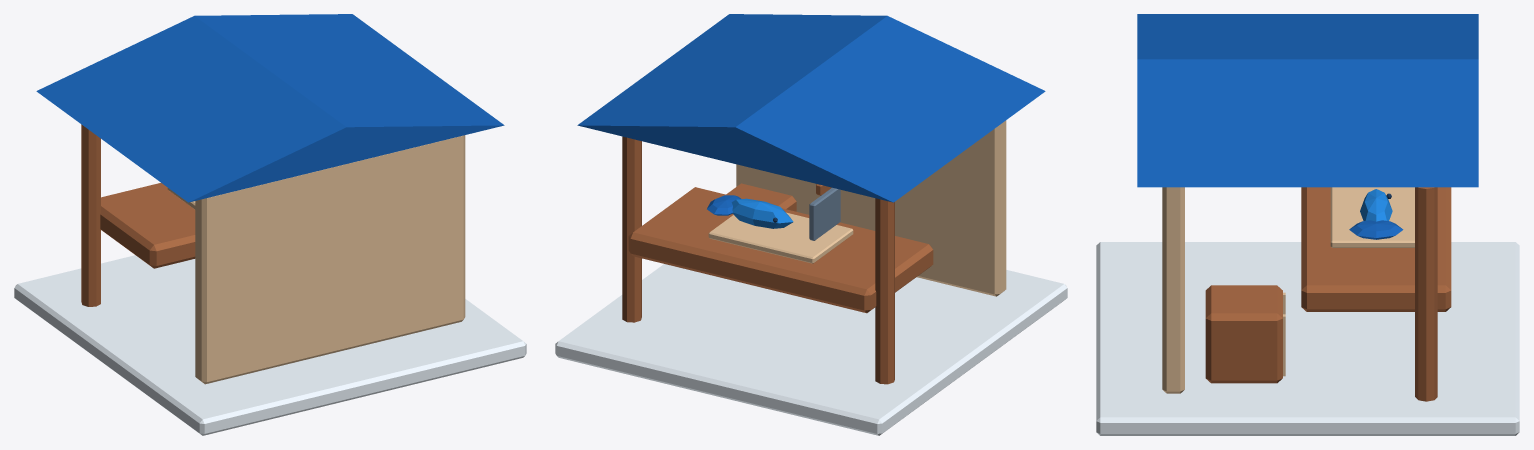
The model's file is Building_Preparation_2x2_v001.fbx.
The picture shows the model from 3 angles, left to right: view 1: azimuth 30°, elevation 25°; view 2: azimuth 150°, elevation 25°; view 3: azimuth 270°, elevation 25°; orthographic projection. The views are drawn at different scales.
Parts seen in each view (by area): view 1: Roof, BackWall, Foundation, Worktop, Post.001; view 2: Roof, Foundation, BackWall, Worktop, CuttingBoard, Post.001, Post, FishBody, Knife_Anim, Crate; view 3: Roof, Foundation, Worktop, Crate, Post, BackWall, CuttingBoard, FishBody, FishTail.
Boxes of the visible parts, <box> form: Roof: <box>36,14,504,202</box>; BackWall: <box>195,135,465,384</box>; Foundation: <box>14,255,526,435</box>; Worktop: <box>100,183,195,268</box>; Post.001: <box>81,124,100,306</box>; Roof: <box>577,14,1045,202</box>; Foundation: <box>555,264,1067,435</box>; BackWall: <box>736,120,1006,296</box>; Worktop: <box>628,187,933,313</box>; CuttingBoard: <box>708,212,853,263</box>; Post.001: <box>875,198,894,384</box>; Post: <box>622,136,641,322</box>; FishBody: <box>731,198,793,228</box>; Knife_Anim: <box>809,187,840,240</box>; Crate: <box>726,183,796,211</box>; Roof: <box>1137,14,1478,187</box>; Foundation: <box>1096,242,1519,435</box>; Worktop: <box>1301,187,1451,311</box>; Crate: <box>1205,285,1282,383</box>; Post: <box>1415,187,1437,401</box>; BackWall: <box>1162,187,1184,393</box>; CuttingBoard: <box>1330,187,1414,247</box>; FishBody: <box>1360,189,1392,221</box>; FishTail: <box>1349,220,1403,239</box>.
Size of the model in its own units: 186 by 140 by 186.
